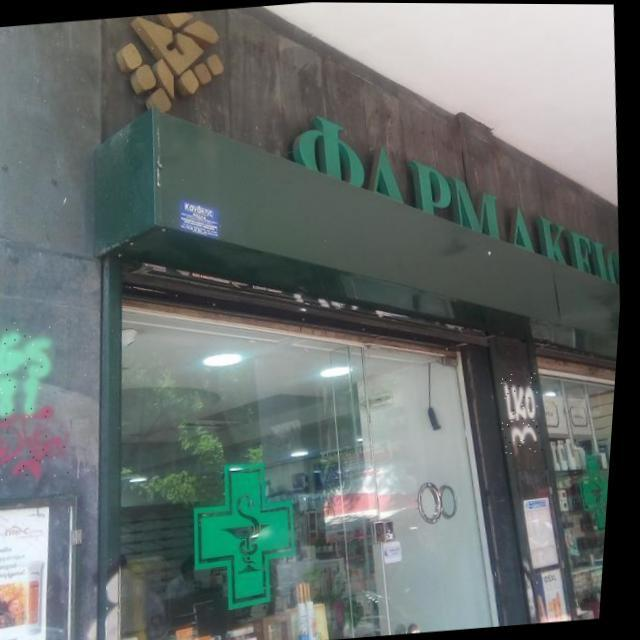-: (0, 315, 63, 420), (0, 405, 78, 482), (501, 370, 554, 453)
